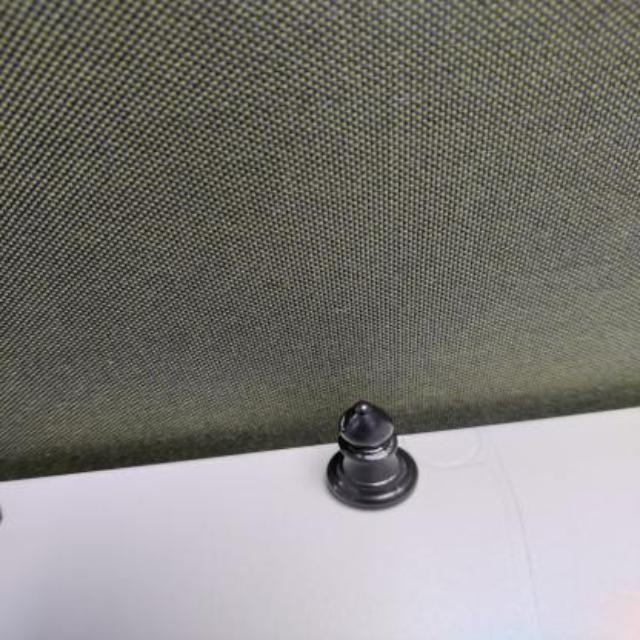black-bishop: (326, 399, 424, 511)
